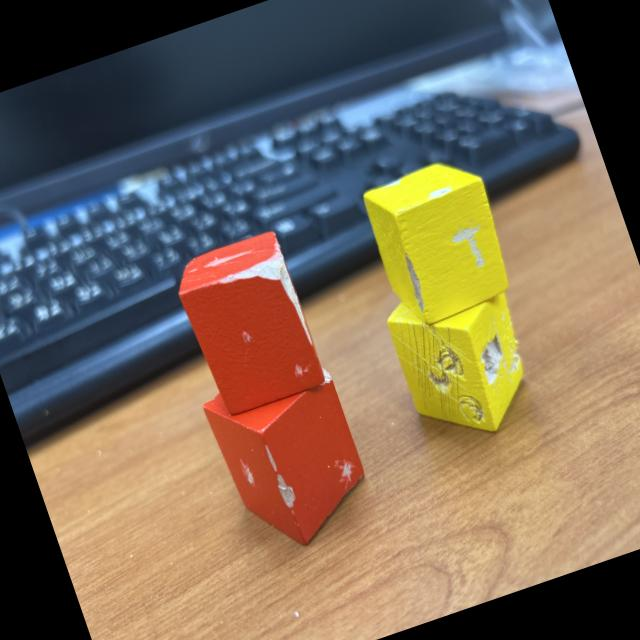broken: (197, 348, 381, 562), (377, 258, 548, 454), (168, 228, 328, 420), (356, 150, 522, 333)
